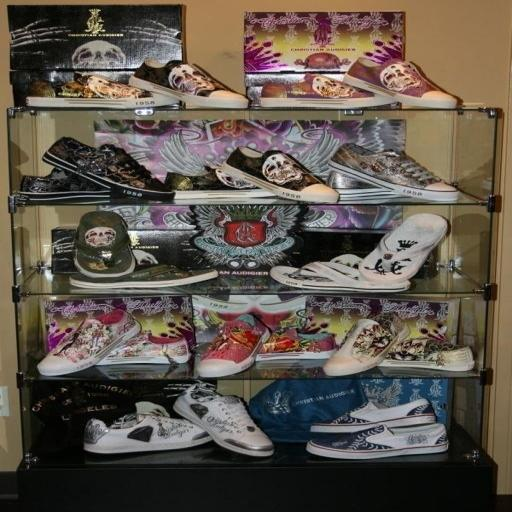flip-flop: (359, 214, 447, 284), (270, 261, 410, 292), (75, 212, 141, 275), (69, 265, 217, 289)
shoe: (42, 136, 174, 200), (173, 382, 274, 457), (329, 143, 459, 201), (37, 309, 141, 376), (221, 146, 339, 203), (129, 58, 248, 108), (344, 58, 458, 108), (323, 313, 409, 376), (83, 412, 211, 454), (26, 74, 177, 109), (306, 423, 449, 459), (196, 313, 270, 378), (260, 73, 393, 108), (310, 398, 436, 433), (69, 264, 218, 289), (164, 168, 274, 200), (379, 336, 475, 372), (16, 168, 111, 204), (96, 331, 191, 366), (256, 325, 337, 361), (326, 170, 401, 204)
